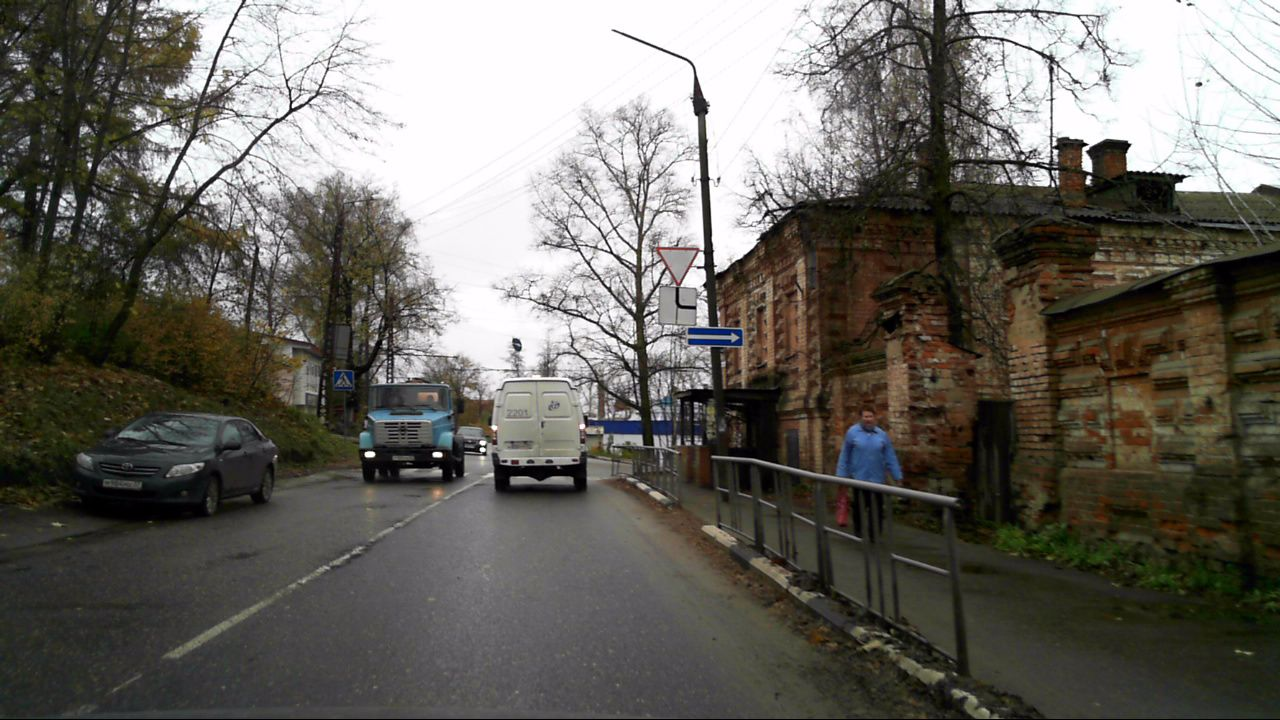One-Way Traffic: (687, 327, 743, 347)
